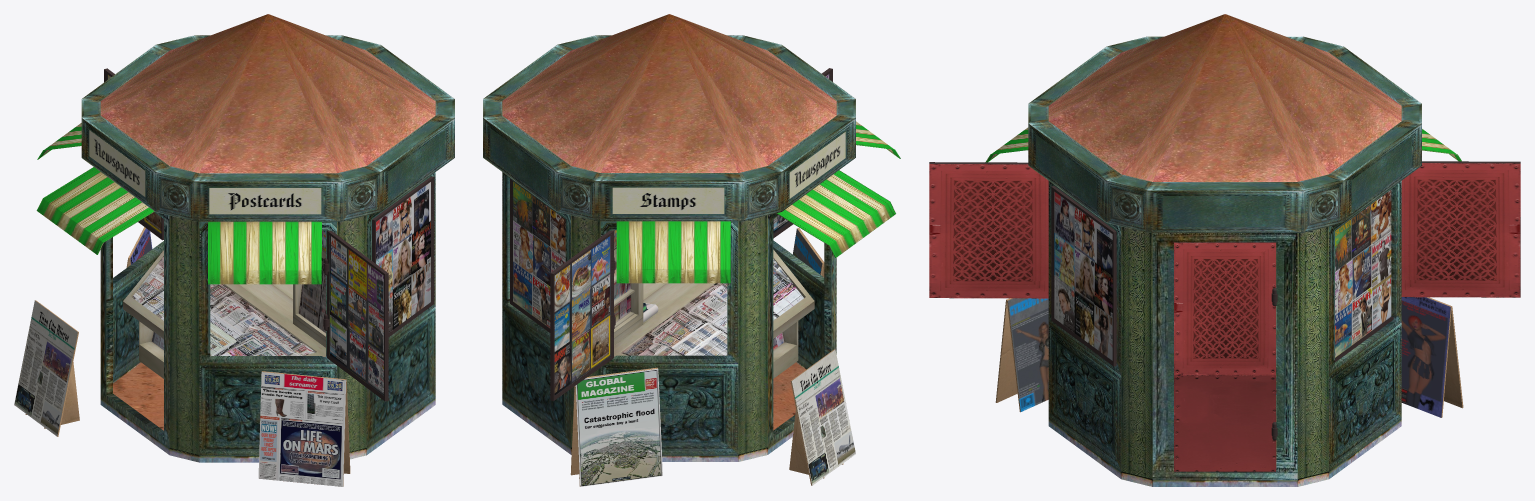
The model's file is NewsStand.obj.
The picture shows the model from 3 angles, left to right: view 1: azimuth 30°, elevation 25°; view 2: azimuth 150°, elevation 25°; view 3: azimuth 270°, elevation 25°; orthographic projection. The views are drawn at different scales.
Visible parts, largest first — view 1: defaultobject; view 2: defaultobject; view 3: defaultobject.
Boxes of the visible parts, x1,y1,x2,y2 form: defaultobject: (14, 14, 454, 486); defaultobject: (483, 14, 900, 486); defaultobject: (929, 14, 1520, 486).
Size of the model in its own units: 1.28 by 1.35 by 1.78.
